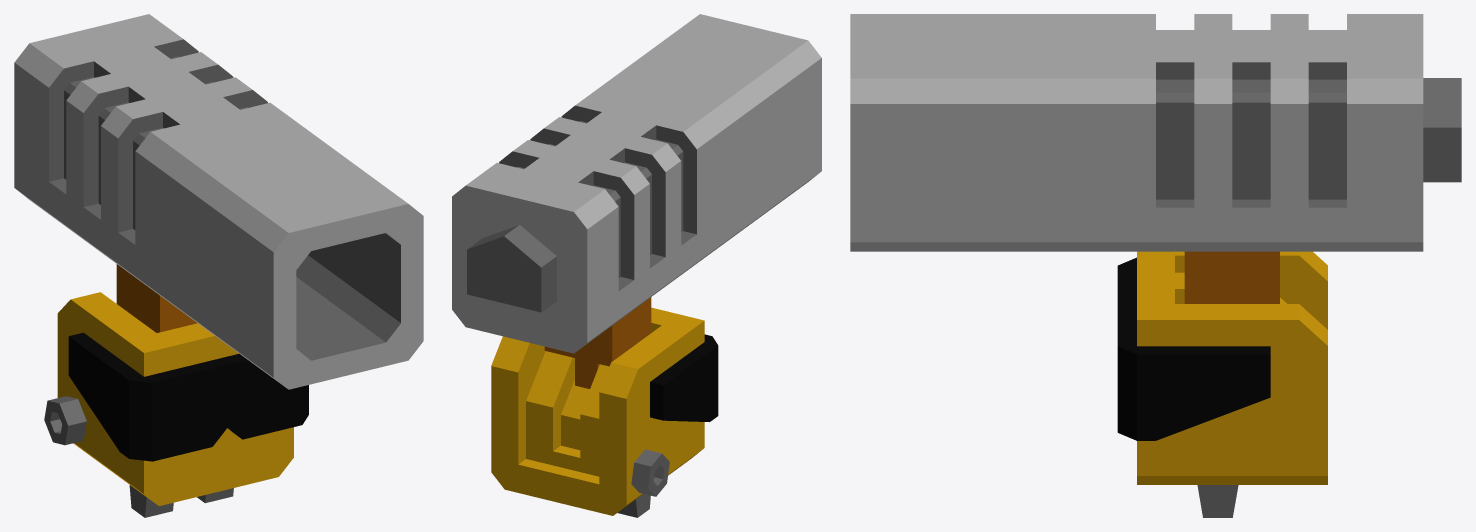
File: CH_Boum.fbx
The picture shows the model from 3 angles, left to right: view 1: azimuth 30°, elevation 25°; view 2: azimuth 150°, elevation 25°; view 3: azimuth 270°, elevation 25°; orthographic projection. The views are drawn at different scales.
Visible parts, largest first — view 1: BOUM_Cannon, BOUM_Glasses, BOUM_Body, BOUM_CannonHinge, BOUM_Exhaust, BOUM_RightLeg; view 2: BOUM_Cannon, BOUM_Body, BOUM_Glasses, BOUM_CannonHinge, BOUM_Exhaust, BOUM_RightLeg; view 3: BOUM_Cannon, BOUM_Body, BOUM_Glasses, BOUM_CannonHinge, BOUM_LeftLeg.
Boxes of the visible parts, left/top/right/bottom form: BOUM_Cannon: left=14, top=14, right=423, bottom=389; BOUM_Glasses: left=68, top=332, right=308, bottom=461; BOUM_Body: left=57, top=292, right=293, bottom=505; BOUM_CannonHinge: left=116, top=264, right=197, bottom=332; BOUM_Exhaust: left=44, top=396, right=86, bottom=445; BOUM_RightLeg: left=129, top=485, right=173, bottom=517; BOUM_Cannon: left=452, top=14, right=821, bottom=353; BOUM_Body: left=491, top=307, right=704, bottom=515; BOUM_Glasses: left=650, top=334, right=718, bottom=421; BOUM_CannonHinge: left=544, top=297, right=651, bottom=388; BOUM_Exhaust: left=631, top=449, right=669, bottom=496; BOUM_RightLeg: left=617, top=494, right=650, bottom=517; BOUM_Cannon: left=850, top=14, right=1461, bottom=251; BOUM_Body: left=1137, top=251, right=1327, bottom=484; BOUM_Glasses: left=1117, top=257, right=1270, bottom=440; BOUM_CannonHinge: left=1184, top=251, right=1279, bottom=303; BOUM_LeftLeg: left=1197, top=485, right=1238, bottom=517.
Size of the model in its own units: 245 by 518 by 640.
